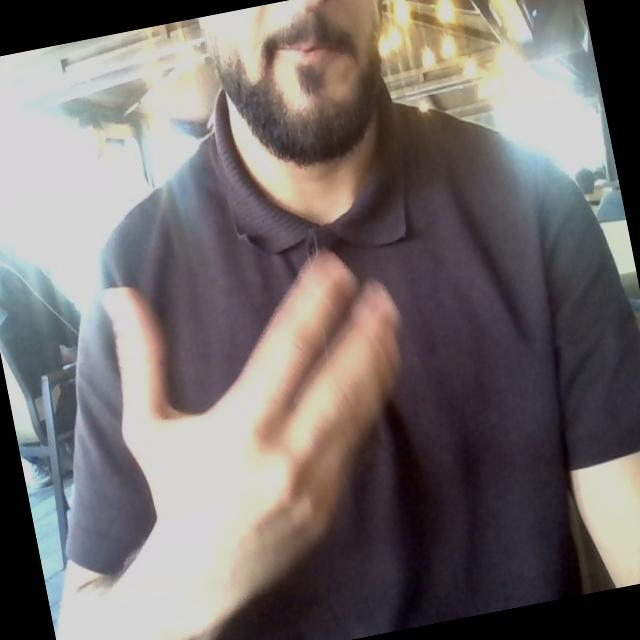Hand: (104, 253, 399, 610)
